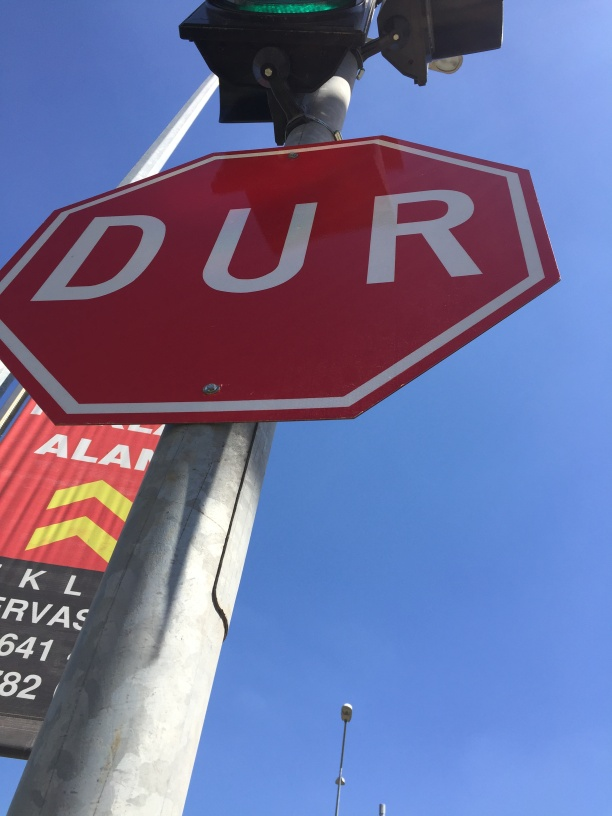arac_dur_isareti: (11, 74, 503, 491)
